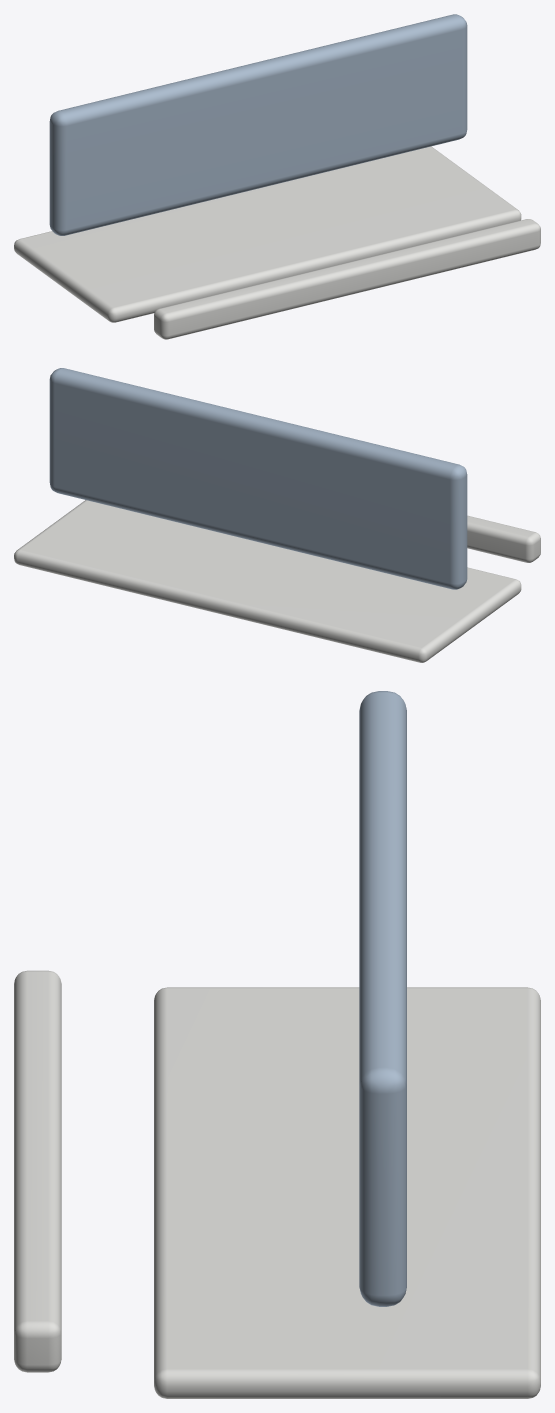
File: p2s_video_so_ong_empathist_stand.proxy.glb
The picture shows the model from 3 angles, top to bottom: view 1: azimuth 30°, elevation 25°; view 2: azimuth 150°, elevation 25°; view 3: azimuth 270°, elevation 25°; orthographic projection. The views are drawn at different scales.
Visible parts, largest first — view 1: repair_empathist_clear_back, repair_empathist_bottom_bar, repair_empathist_front_lip; view 2: repair_empathist_clear_back, repair_empathist_bottom_bar, repair_empathist_front_lip; view 3: repair_empathist_bottom_bar, repair_empathist_clear_back, repair_empathist_front_lip.
Part boxes in pixels (box(x1,y1,x2,y2)): repair_empathist_clear_back: box(49, 14, 467, 235); repair_empathist_bottom_bar: box(14, 146, 521, 322); repair_empathist_front_lip: box(154, 219, 540, 339); repair_empathist_clear_back: box(49, 368, 467, 589); repair_empathist_bottom_bar: box(14, 500, 521, 662); repair_empathist_front_lip: box(467, 515, 540, 562); repair_empathist_bottom_bar: box(154, 987, 540, 1398); repair_empathist_clear_back: box(359, 691, 406, 1306); repair_empathist_front_lip: box(14, 970, 61, 1372).
Bounding box in the file's own units: 0.28 × 0.1092 × 0.1593.
